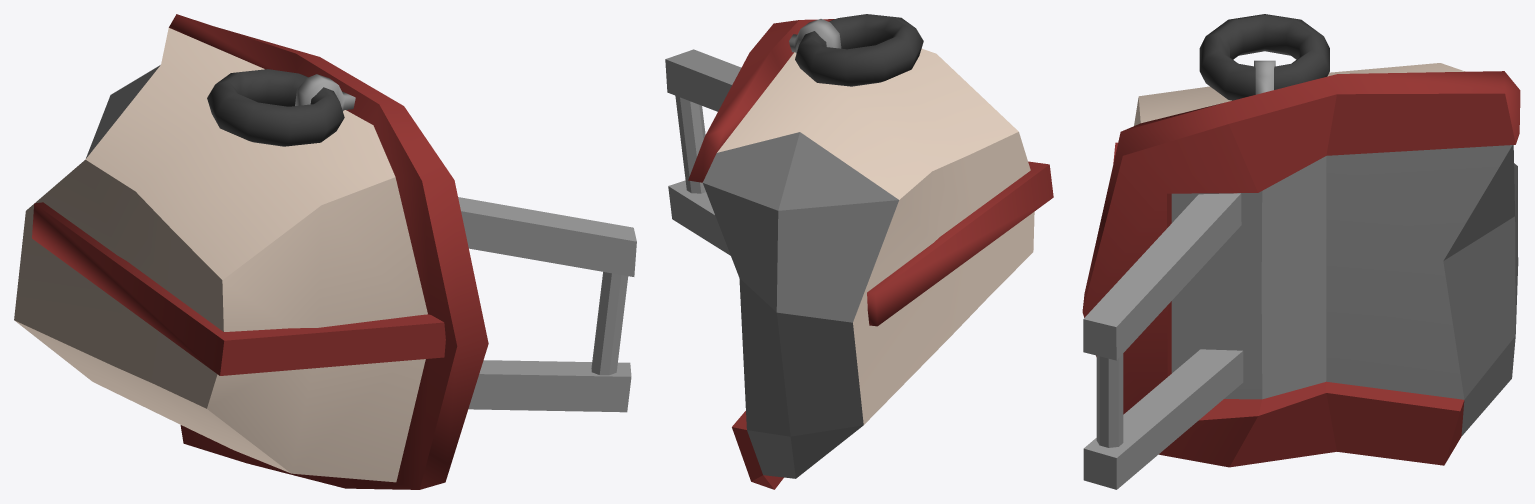
Rendered from M_Shipwreak_Obstacle_Part_1.fbx.
The picture shows the model from 3 angles, left to right: view 1: azimuth 30°, elevation 25°; view 2: azimuth 150°, elevation 25°; view 3: azimuth 270°, elevation 25°; orthographic projection. The views are drawn at different scales.
Visible parts, largest first — view 1: M_Shipwreak_Obstacle_Part_1; view 2: M_Shipwreak_Obstacle_Part_1; view 3: M_Shipwreak_Obstacle_Part_1.
Boxes of the visible parts, left/top/right/bottom form: M_Shipwreak_Obstacle_Part_1: left=14, top=14, right=636, bottom=489; M_Shipwreak_Obstacle_Part_1: left=665, top=14, right=1053, bottom=489; M_Shipwreak_Obstacle_Part_1: left=1082, top=14, right=1520, bottom=489.
Bounding box in the file's own units: 458 × 450 × 424.
